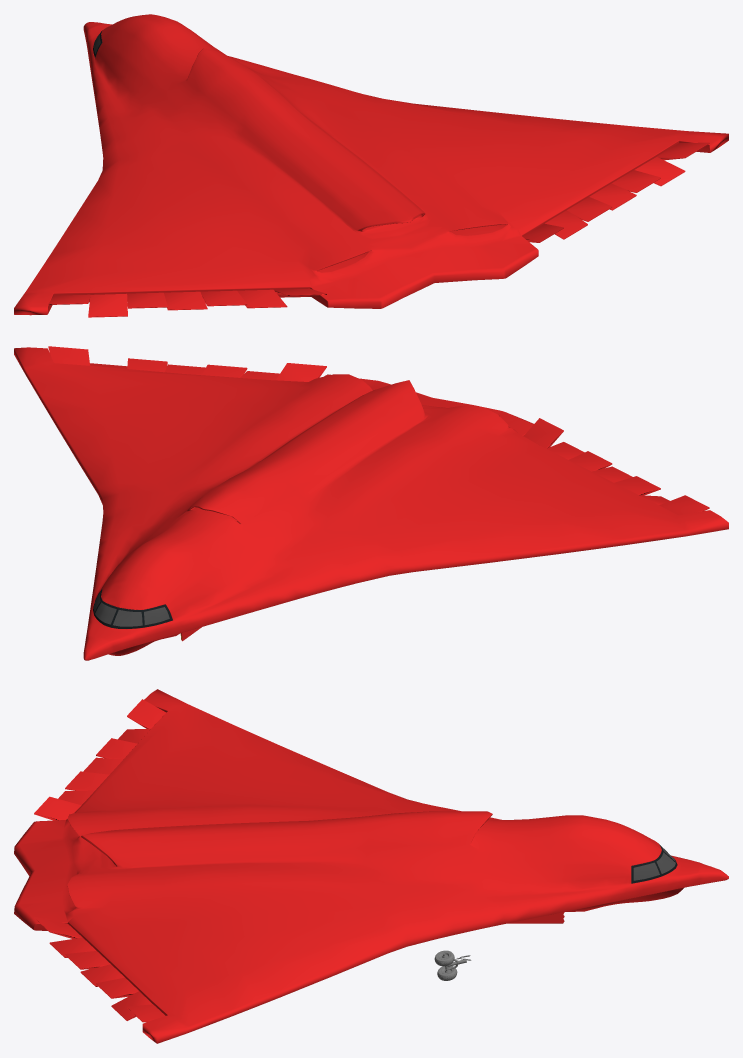
The picture shows the model from 3 angles, top to bottom: view 1: azimuth 30°, elevation 25°; view 2: azimuth 150°, elevation 25°; view 3: azimuth 270°, elevation 25°; orthographic projection.
Parts seen in each view (by area): view 1: meshes[1]-0; view 2: meshes[1]-0, meshes[1]-1, meshes[1]-2; view 3: meshes[1]-0, _3d66-Editable_Poly-22713242-012, meshes[1]-1.
Part boxes in pixels (x1,y1,x2,y2): meshes[1]-0: (14, 14, 728, 317); meshes[1]-0: (14, 346, 728, 660); meshes[1]-1: (94, 592, 169, 626); meshes[1]-2: (93, 589, 172, 628); meshes[1]-0: (14, 689, 728, 1043); _3d66-Editable_Poly-22713242-012: (434, 950, 471, 980); meshes[1]-1: (633, 846, 675, 880).
Size of the model in its own units: 3901 by 712 by 3385.
